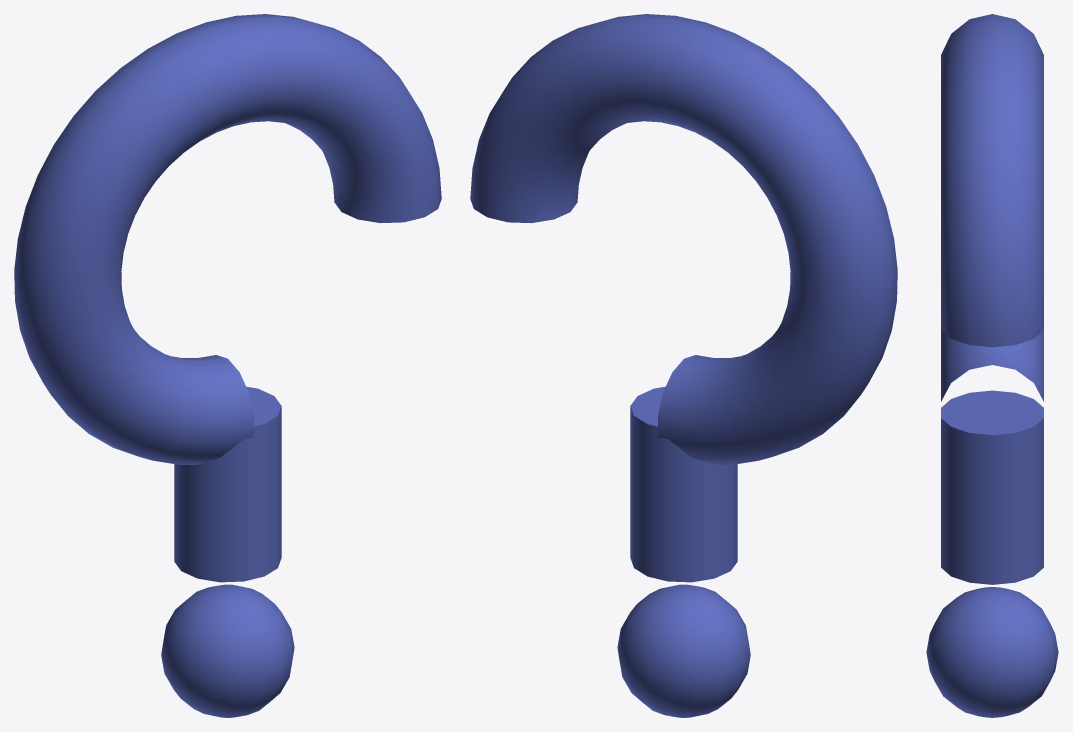
File: question.glb
The picture shows the model from 3 angles, left to right: view 1: azimuth 30°, elevation 25°; view 2: azimuth 150°, elevation 25°; view 3: azimuth 270°, elevation 25°; orthographic projection.
Parts seen in each view (by area): view 1: question; view 2: question; view 3: question.
Boxes of the visible parts, <box> form: question: <box>14,14,441,717</box>; question: <box>470,14,897,717</box>; question: <box>926,14,1058,717</box>.
Size of the model in its own units: 1.42 by 2.26 by 0.4.
